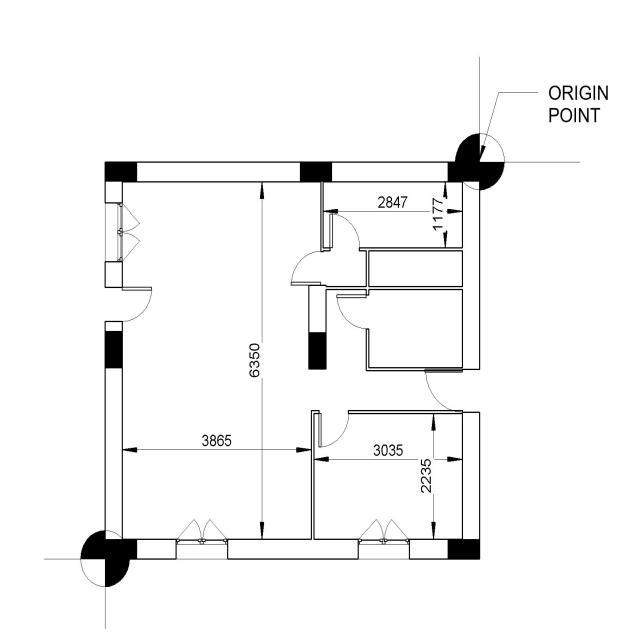Column: (104, 332, 125, 370), (447, 161, 482, 183), (448, 538, 480, 562), (104, 161, 138, 183), (104, 538, 138, 560), (308, 332, 327, 371), (300, 161, 332, 183)
Door: (422, 362, 472, 413), (102, 284, 154, 324), (285, 250, 326, 286), (317, 407, 349, 453), (328, 209, 361, 252), (336, 292, 370, 330)
Window: (103, 201, 143, 264), (356, 516, 411, 561), (174, 519, 230, 560)
